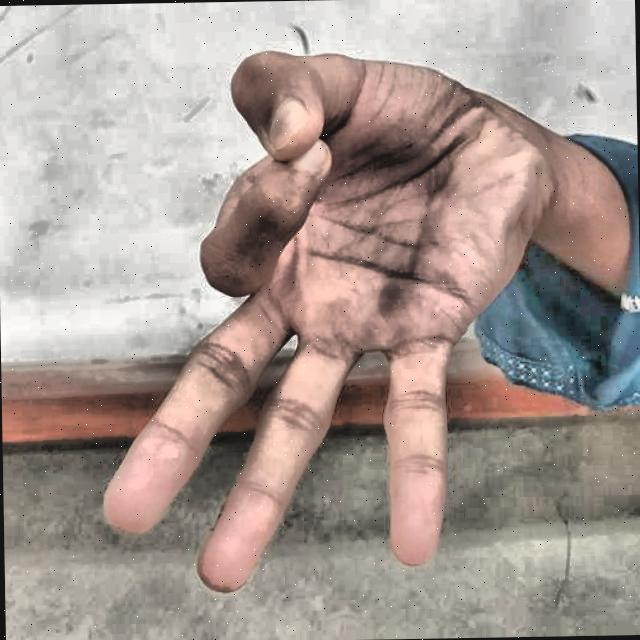Fa: (49, 28, 572, 617)
